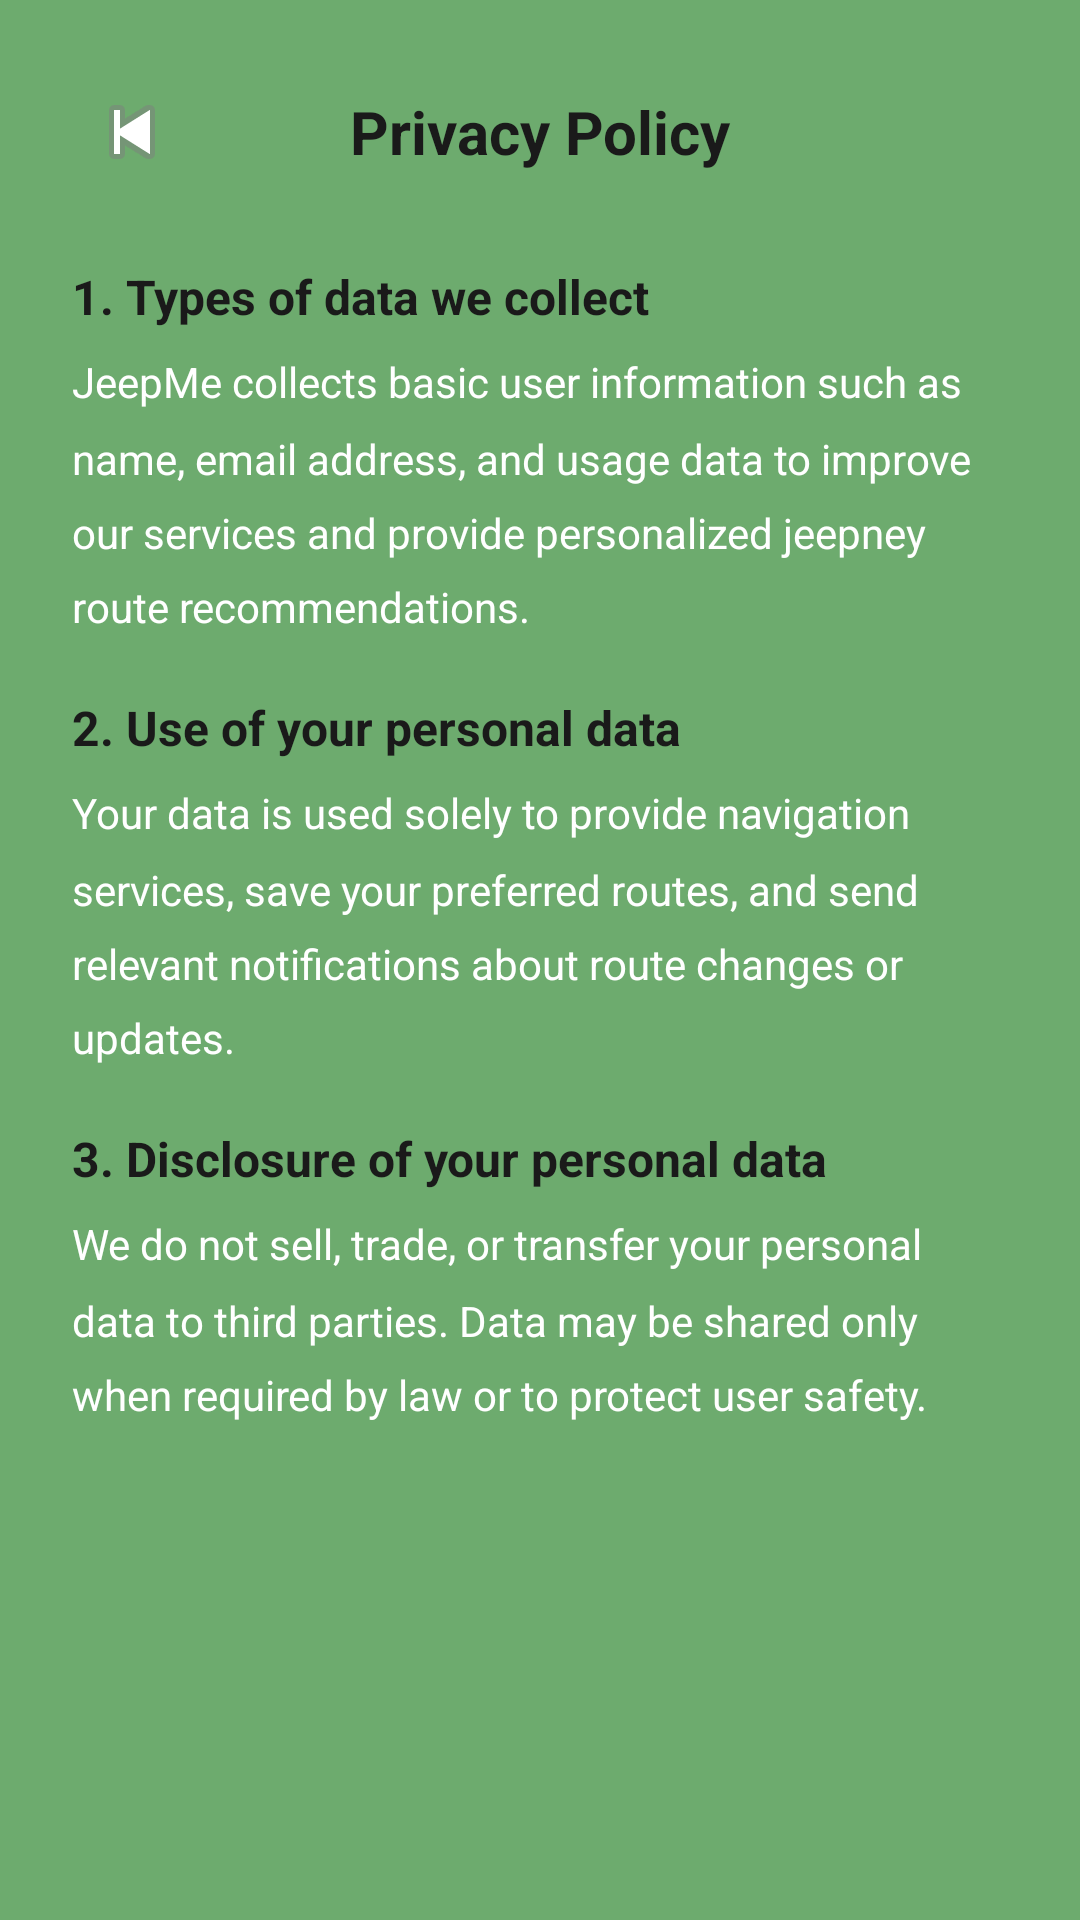

Icons on this 1080px×1920px Android screen, each with its box as (x1, y1, x2, y2):
previous: (114, 110, 150, 154)
